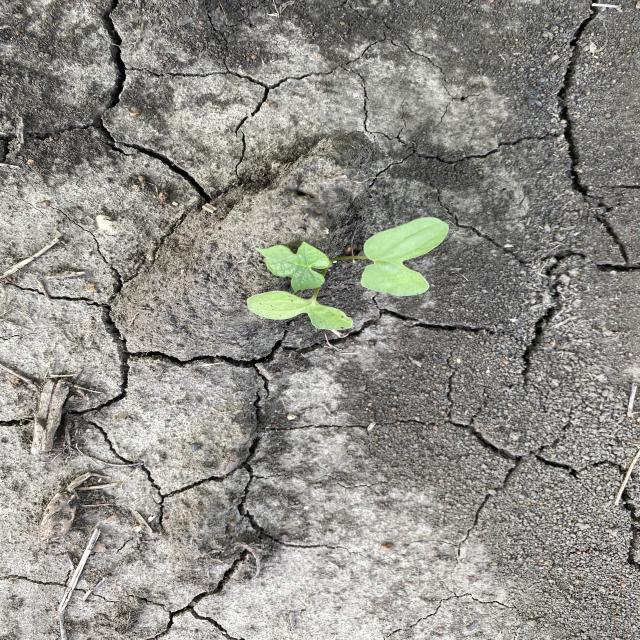MorningGlory: (246, 215, 452, 332)
